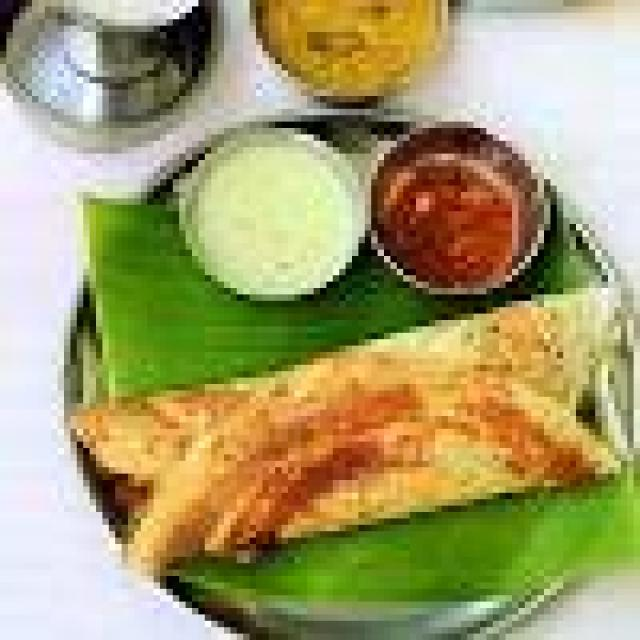Wet Waste: (0, 300, 634, 570), (166, 128, 384, 320)
